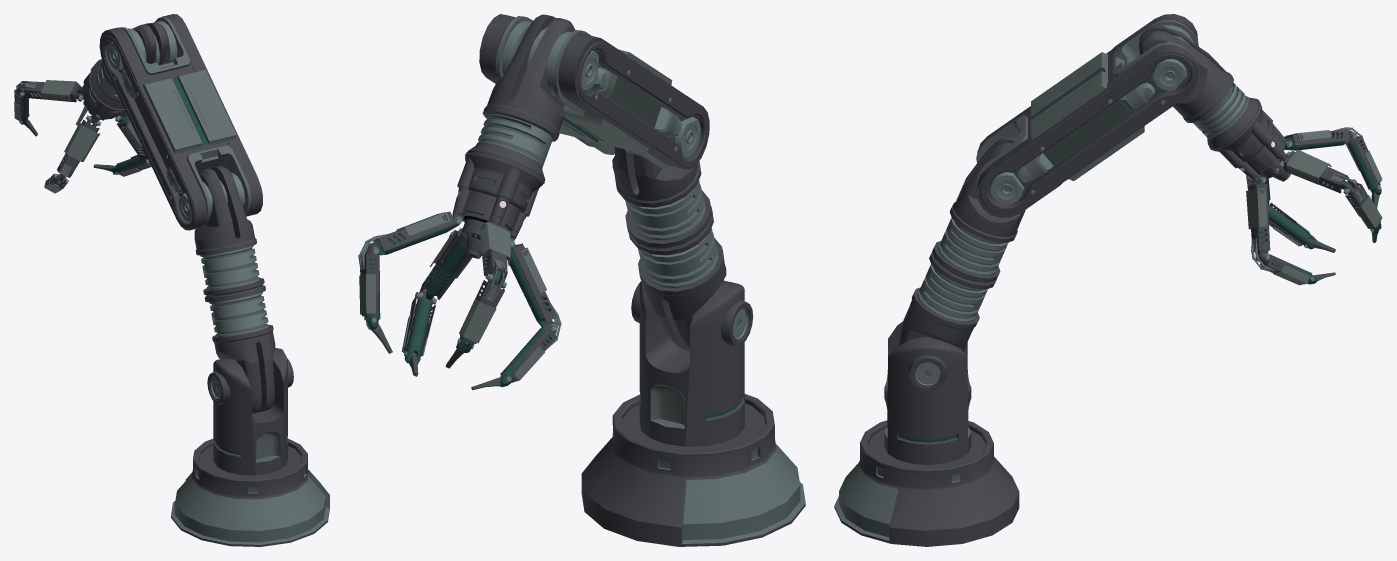
Rendered from Robotic Manipulator.fbx.
3 renders of one model, left to right at view 1: azimuth 30°, elevation 25°; view 2: azimuth 150°, elevation 25°; view 3: azimuth 270°, elevation 25°, orthographic. The views are drawn at different scales.
Parts seen in each view (by area): view 1: Cube.003, Cylinder, Cylinder.004, Cylinder.006, Cylinder.014, Cylinder.007, Cylinder.002, Cylinder.009, Cylinder.016, Cylinder.003; view 2: Cylinder, Cube.003, Cylinder.006, Cylinder.014, Cylinder.004, Cylinder.007, Cylinder.009, Cylinder.011, Cylinder.003, Cylinder.012, Cylinder.002, Cylinder.008 (+1 smaller); view 3: Cube.003, Cylinder, Cylinder.004, Cylinder.006, Cylinder.014, Cylinder.011, Cylinder.009, Cylinder.002, Cylinder.003, Cylinder.012, Cylinder.008, Cylinder.016.
Part boxes in pixels (<box>): Cube.003: <box>99,14,262,230</box>; Cylinder: <box>171,438,329,546</box>; Cylinder.004: <box>194,165,275,413</box>; Cylinder.006: <box>207,348,293,475</box>; Cylinder.014: <box>80,22,168,123</box>; Cylinder.007: <box>56,115,101,183</box>; Cylinder.002: <box>19,80,83,102</box>; Cylinder.009: <box>115,113,147,159</box>; Cylinder.016: <box>112,154,151,176</box>; Cylinder.003: <box>14,81,29,124</box>; Cylinder: <box>581,394,805,546</box>; Cube.003: <box>479,14,709,169</box>; Cylinder.006: <box>631,280,753,446</box>; Cylinder.014: <box>452,14,575,258</box>; Cylinder.004: <box>612,147,726,350</box>; Cylinder.007: <box>507,239,561,326</box>; Cylinder.009: <box>415,228,472,300</box>; Cylinder.011: <box>365,211,461,255</box>; Cylinder.003: <box>456,271,505,352</box>; Cylinder.012: <box>358,241,380,330</box>; Cylinder.002: <box>479,221,510,288</box>; Cylinder.008: <box>499,321,560,387</box>; Cube.003: <box>976,14,1199,217</box>; Cylinder: <box>834,420,1019,546</box>; Cylinder.004: <box>898,136,1025,351</box>; Cylinder.006: <box>884,321,971,464</box>; Cylinder.014: <box>1139,25,1290,182</box>; Cylinder.011: <box>1278,149,1356,193</box>; Cylinder.009: <box>1246,175,1270,259</box>; Cylinder.002: <box>1284,127,1353,150</box>; Cylinder.003: <box>1345,129,1382,194</box>; Cylinder.012: <box>1343,179,1382,233</box>; Cylinder.008: <box>1268,202,1317,249</box>; Cylinder.016: <box>1253,253,1317,285</box>.
Bounding box in the file's own units: 0.2207 × 0.6299 × 0.6537.
